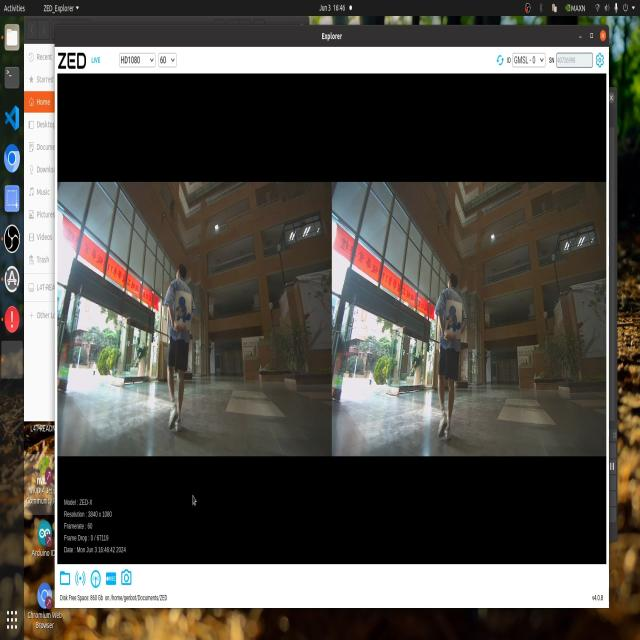blue: (439, 305, 464, 339), (174, 288, 187, 327)
